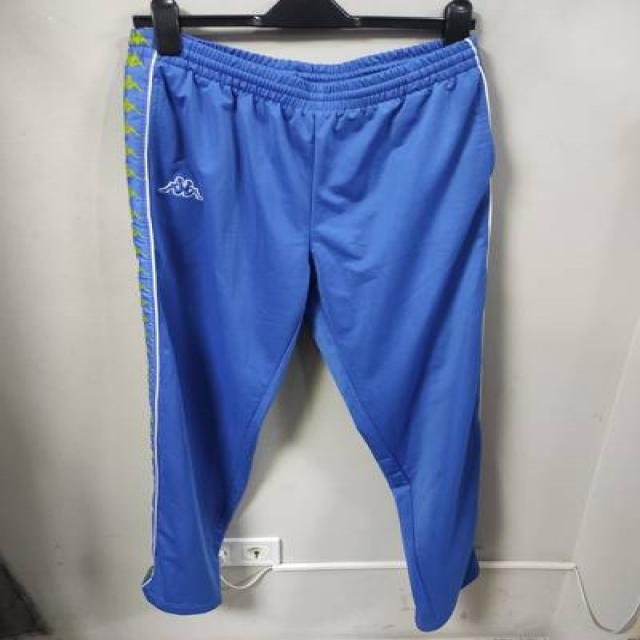Clothes -Biodegradable-: (118, 22, 494, 632)
